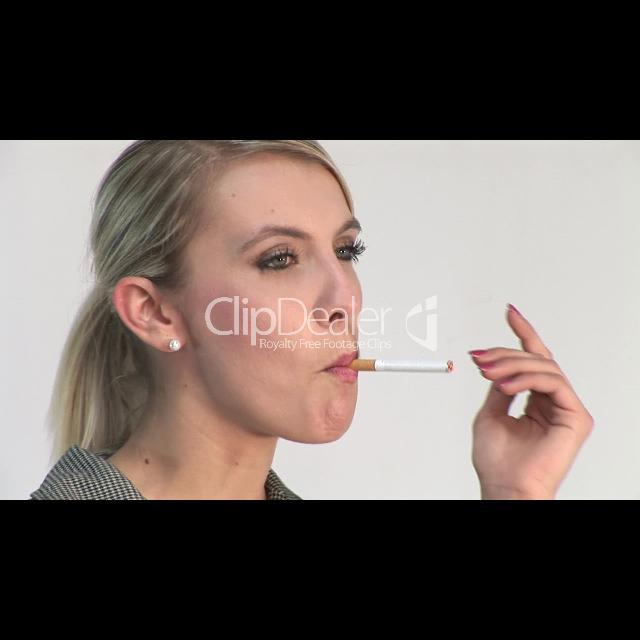rokok: (349, 352, 461, 384)
